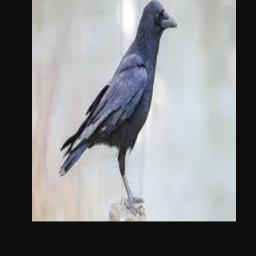Crow: (58, 0, 177, 216)
